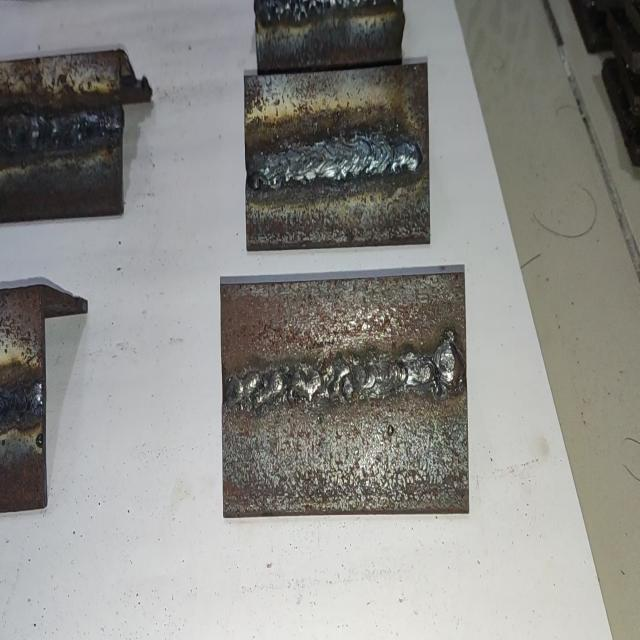Defect: (4, 106, 118, 160), (222, 358, 302, 418), (416, 335, 466, 400), (262, 0, 348, 26)
Welding Line: (225, 344, 462, 411), (248, 130, 423, 189), (0, 106, 120, 158), (261, 0, 389, 23), (0, 376, 40, 422)
Workpiece: (219, 272, 470, 518), (244, 69, 432, 248), (0, 52, 123, 226), (256, 0, 406, 80), (0, 280, 42, 510)
